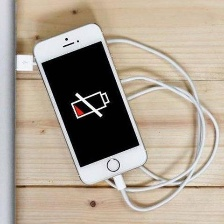phone: (29, 20, 149, 187)
